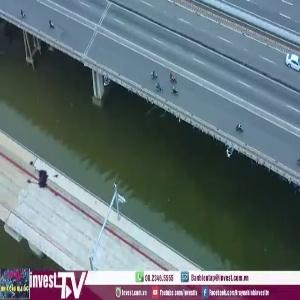drone: (11, 152, 66, 207)
